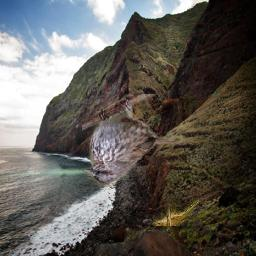Cuckoo: (153, 200, 199, 227)
Sparrow: (83, 95, 184, 188)
